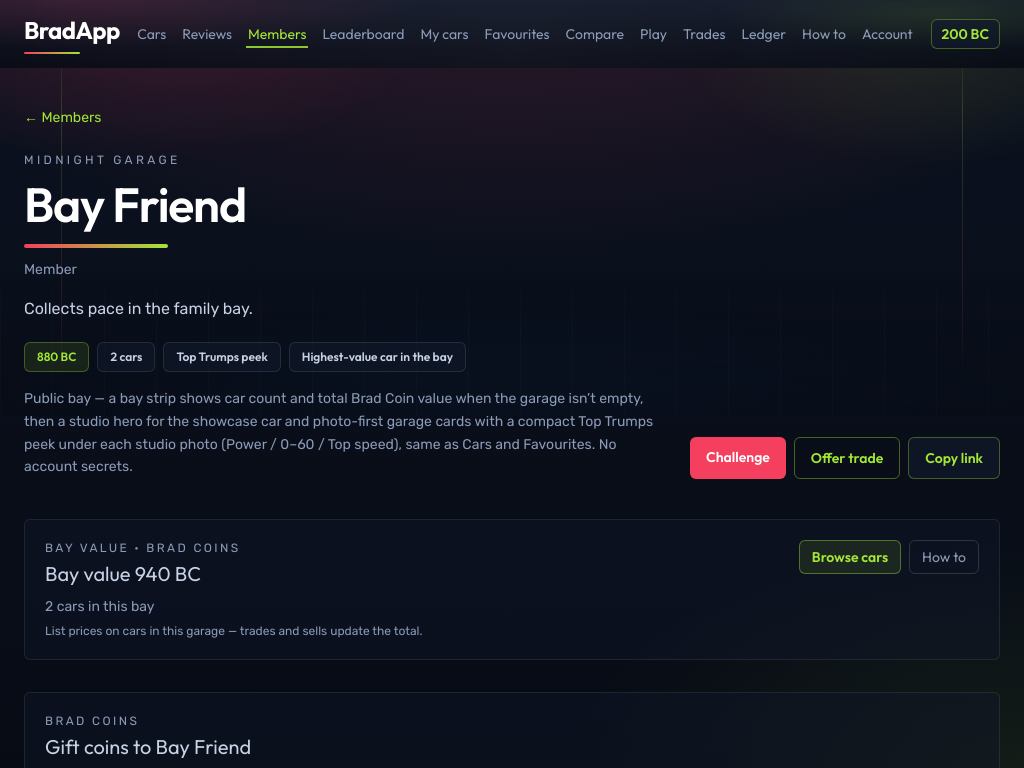
Test case: MemberProfilePage showcase garage › copies that member's profile link with a toast
Check: the heading "Bay Friend" is shown, box [24,174,246,234]
Check: the link "Challenge" is shown, box [690,437,786,479]
Click the button "Copy link" at point(954, 458), box [908,437,1000,479]
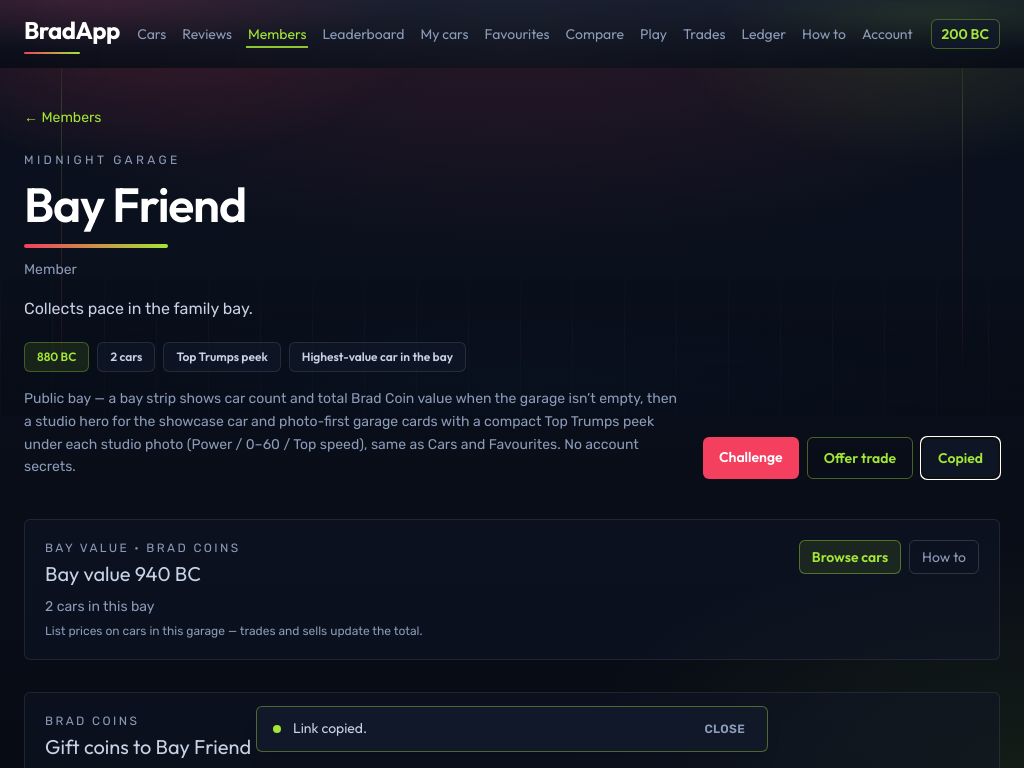
Check: the message shows "Link copied.", box [293,719,367,737]
